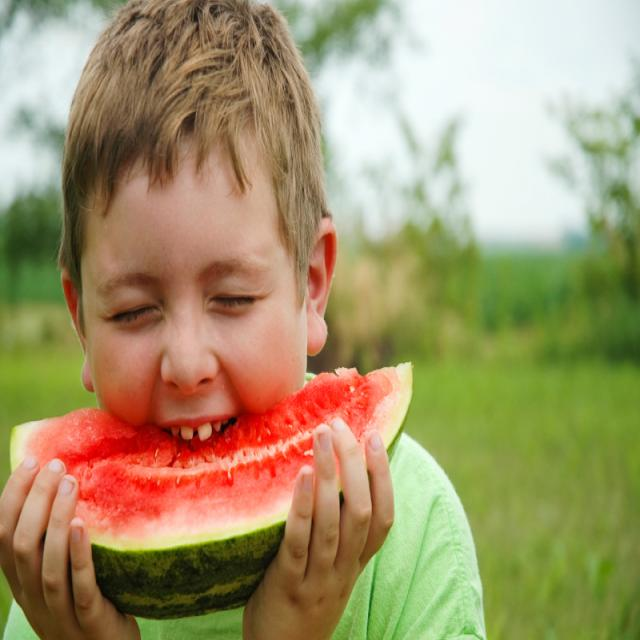watermelon: (10, 366, 408, 617)
